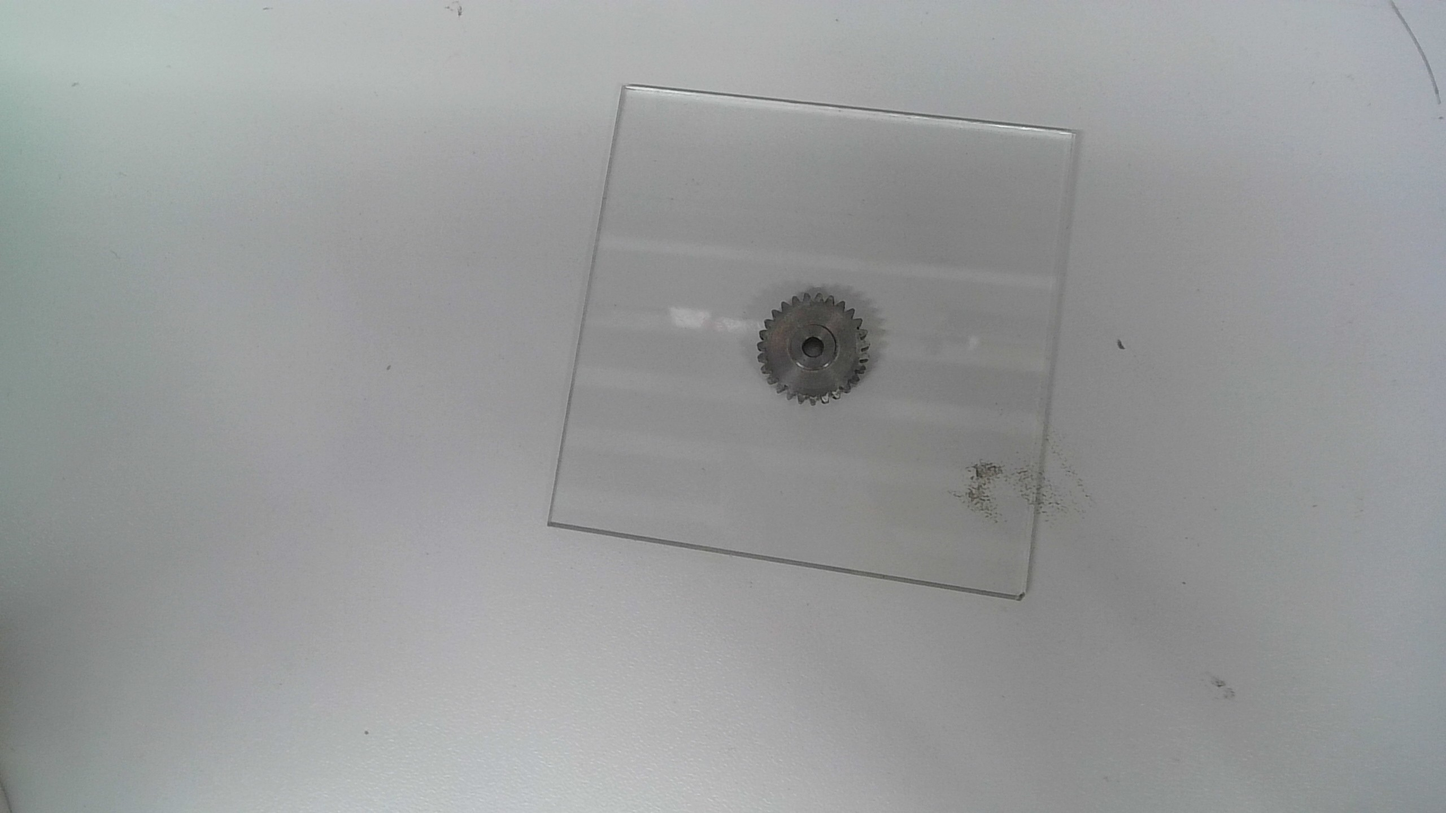gear: (752, 288, 872, 408)
